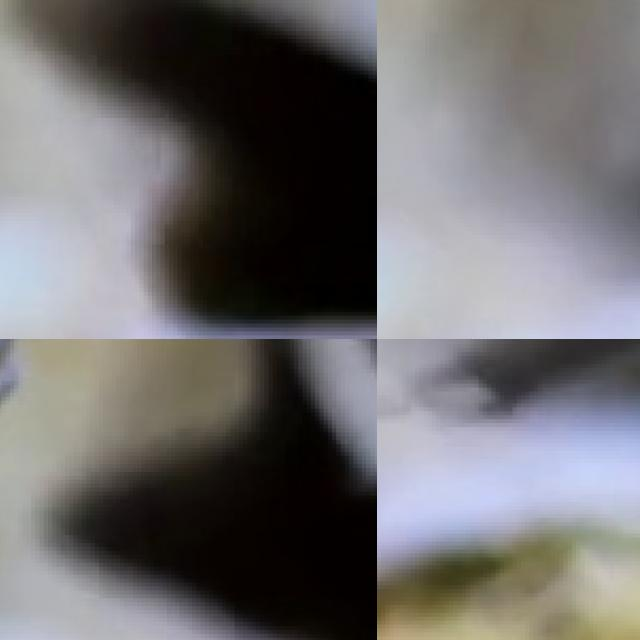fish: (0, 0, 377, 339), (77, 339, 377, 640)
